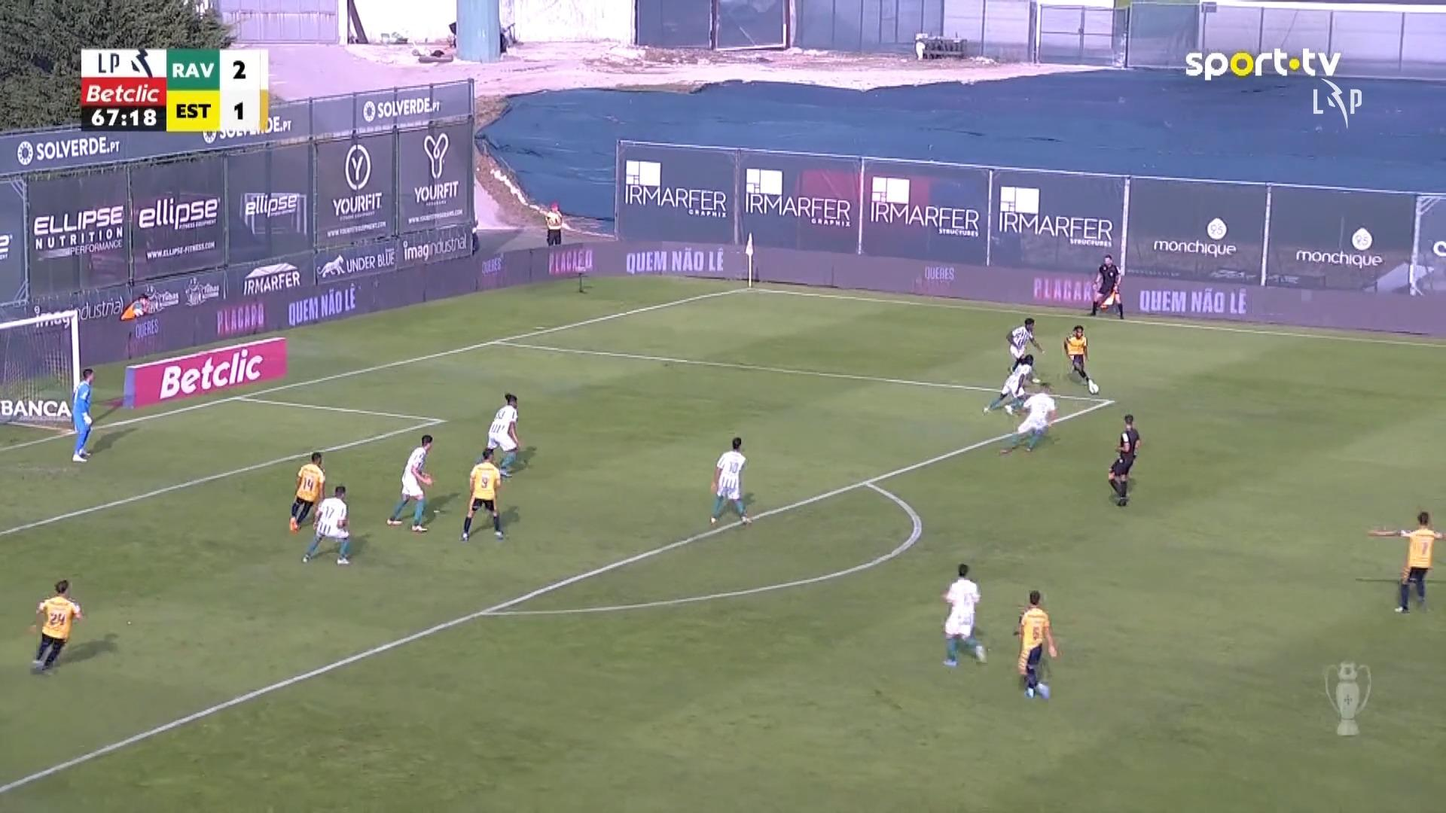ball: (1089, 382, 1098, 394)
goalkeeper: (70, 367, 95, 461)
player: (1367, 510, 1444, 613), (29, 577, 83, 674), (1012, 589, 1057, 699), (940, 562, 987, 666), (386, 433, 434, 531), (998, 381, 1058, 454), (459, 446, 505, 541), (300, 483, 352, 565), (709, 436, 752, 526), (982, 353, 1038, 415), (484, 391, 520, 477), (288, 450, 325, 531), (1062, 324, 1099, 394), (1005, 316, 1044, 376)
referee: (1106, 413, 1141, 506), (1088, 253, 1124, 318)
